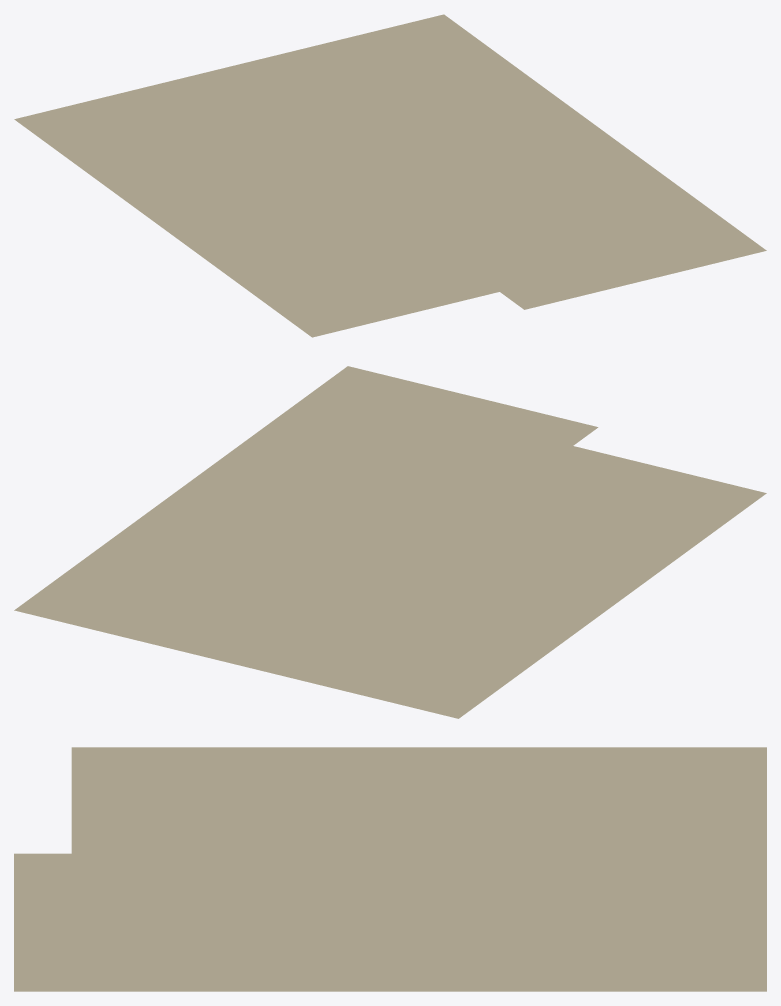
Rendered from sol_grand.fbx.
The picture shows the model from 3 angles, top to bottom: view 1: azimuth 30°, elevation 25°; view 2: azimuth 150°, elevation 25°; view 3: azimuth 270°, elevation 25°; orthographic projection. The views are drawn at different scales.
Visible parts, largest first — view 1: sol_principal; view 2: sol_principal; view 3: sol_principal.
Part boxes in pixels (x1=…): sol_principal: x1=14, y1=14, x2=766, y2=337; sol_principal: x1=14, y1=366, x2=766, y2=718; sol_principal: x1=14, y1=747, x2=766, y2=991.
Size of the model in its own units: 333 by 9.62e-14 by 433.
